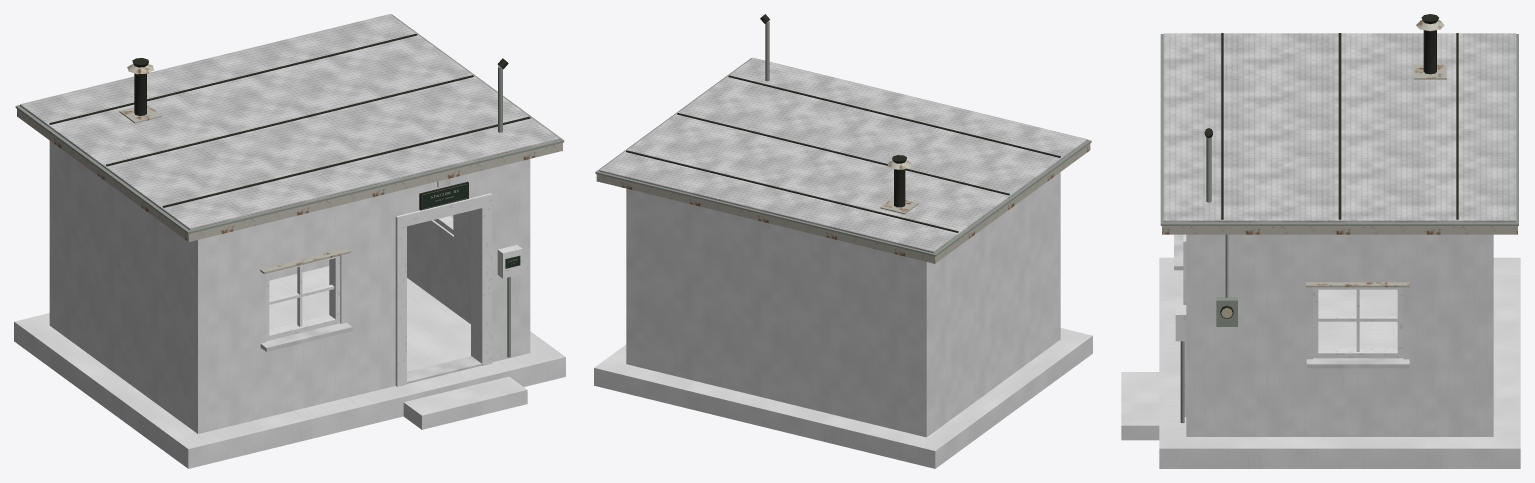
The model's file is SM_FieldStation_Hut_Shell_LOD2.glb.
3 renders of one model, left to right at view 1: azimuth 30°, elevation 25°; view 2: azimuth 150°, elevation 25°; view 3: azimuth 270°, elevation 25°, orthographic. The views are drawn at different scales.
Parts seen in each view (by area): view 1: SM_FieldStation_Hut_Shell_LOD2; view 2: SM_FieldStation_Hut_Shell_LOD2; view 3: SM_FieldStation_Hut_Shell_LOD2.
Boxes of the visible parts, bbox=[...] form: SM_FieldStation_Hut_Shell_LOD2: bbox=[14, 14, 565, 468]; SM_FieldStation_Hut_Shell_LOD2: bbox=[594, 14, 1092, 468]; SM_FieldStation_Hut_Shell_LOD2: bbox=[1121, 14, 1520, 468].
Size of the model in its own units: 5 by 3.92 by 4.42.
12 materials, 9 textured.
